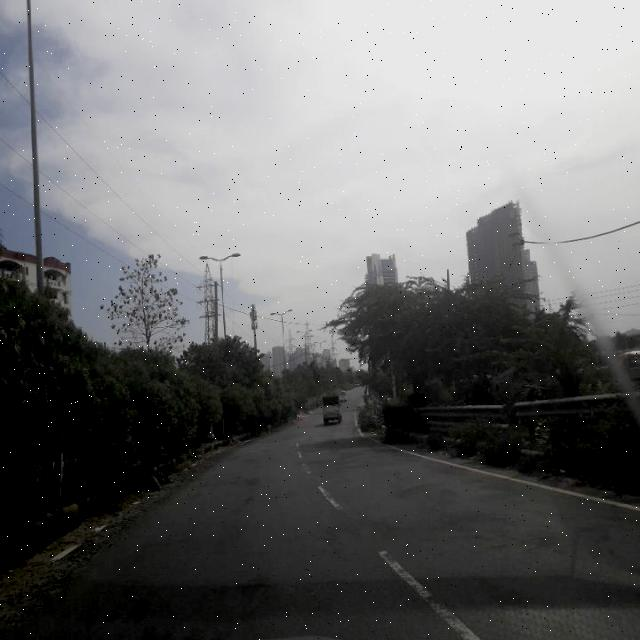D40: (447, 508, 533, 542), (403, 478, 455, 502), (343, 513, 396, 536)
D44: (382, 555, 534, 637)
